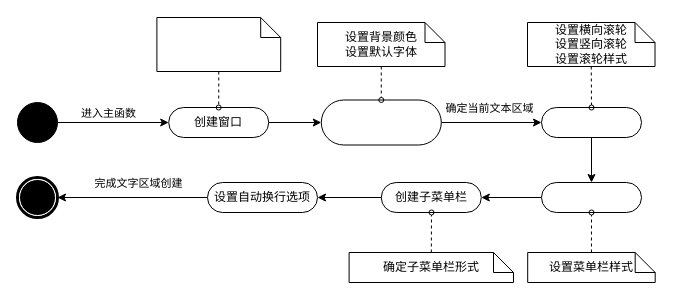
The diagram is 673 pixels wide and 300 high, and some of its shapes have lost their labels. The centre of each missing label's shape, as x and y in pixels:
创建富文本编辑器（文本框）: the point at 380,122
创建滚动条: the point at 591,122
创建菜单栏: the point at 591,197
设置窗口大小 设置窗口可见性 设置退出: the point at 218,44
